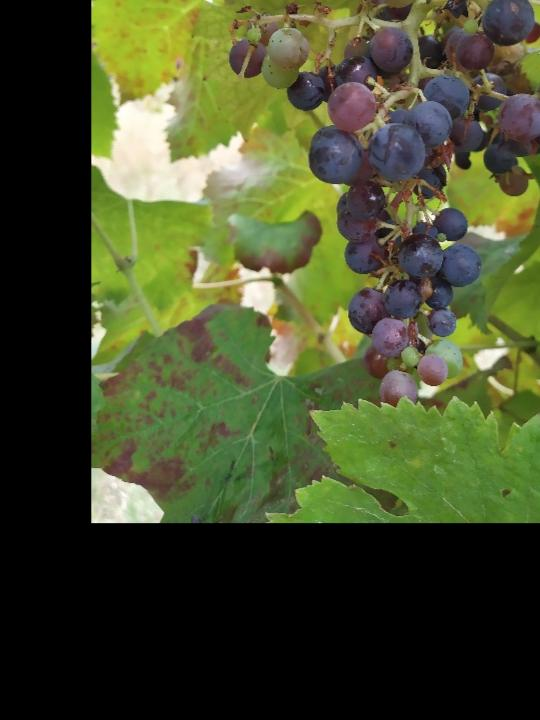grape: (224, 0, 540, 404)
